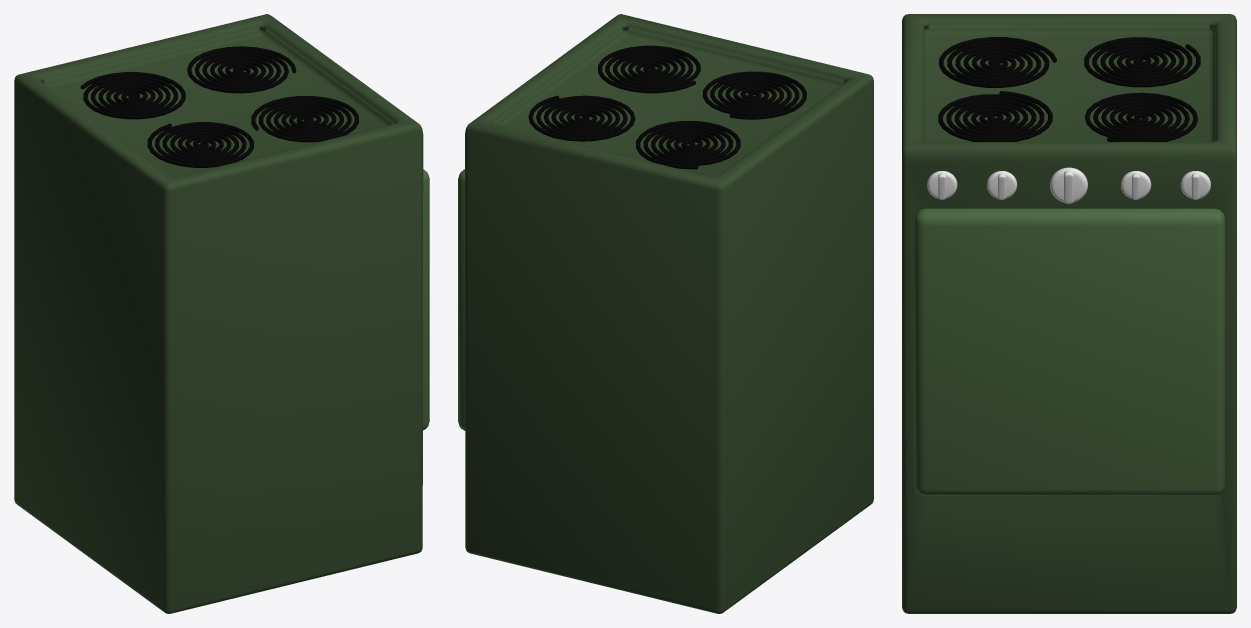
The model's file is Oven.glb.
3 renders of one model, left to right at view 1: azimuth 30°, elevation 25°; view 2: azimuth 150°, elevation 25°; view 3: azimuth 270°, elevation 25°, orthographic. The views are drawn at different scales.
Visible parts, largest first — view 1: oven, coil_c, coil_d, coil_a, coil_b, oven_door; view 2: oven, coil_b, coil_a, coil_c, coil_d, oven_door; view 3: oven, oven_door, coil_a, coil_c, coil_b, coil_d, oven_knob, knob_b, knob_a, knob_c, knob_d.
Boxes of the visible parts, x1,y1,x2,y2 form: oven: (14,14,423,613); coil_c: (80,72,185,119); coil_d: (187,46,296,93); coil_a: (147,122,253,167); coil_b: (251,96,358,142); oven_door: (423,169,429,430); oven: (465,14,873,613); coil_b: (598,45,700,93); coil_a: (702,71,806,119); coil_c: (636,121,740,169); coil_d: (528,95,635,141); oven_door: (458,169,465,430); oven: (902,14,1236,613); oven_door: (914,208,1224,495); coil_a: (939,37,1056,87); coil_c: (1084,37,1200,87); coil_b: (938,91,1052,141); coil_d: (1085,92,1197,141); oven_knob: (1050,167,1087,203); knob_b: (987,171,1017,199); knob_a: (927,171,957,199); knob_c: (1121,171,1151,199); knob_d: (1180,171,1210,199).
Bounding box in the file's own units: 3.56 × 5.37 × 3.49.
